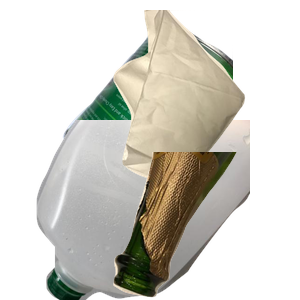glass: (111, 152, 300, 300)
metal: (60, 23, 300, 203)
plastic: (34, 120, 274, 300)
trash: (111, 10, 300, 190)
